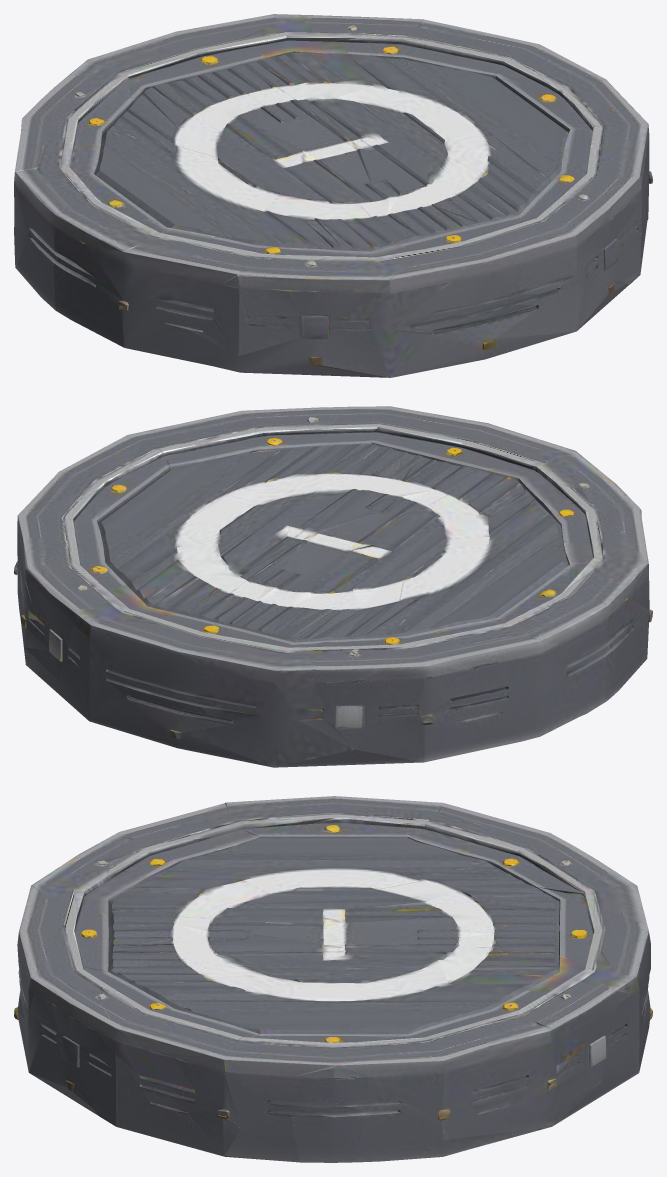
The model's file is pad.glb.
3 renders of one model, top to bottom at view 1: azimuth 30°, elevation 25°; view 2: azimuth 150°, elevation 25°; view 3: azimuth 270°, elevation 25°, orthographic.
Visible parts, largest first — view 1: mesh_node; view 2: mesh_node; view 3: mesh_node.
Boxes of the visible parts, x1,y1,x2,y2 form: mesh_node: (14, 14, 652, 377); mesh_node: (14, 406, 652, 767); mesh_node: (14, 796, 652, 1162).
Size of the model in its own units: 1.9 by 0.3287 by 1.89.
1 material, 1 textured.
